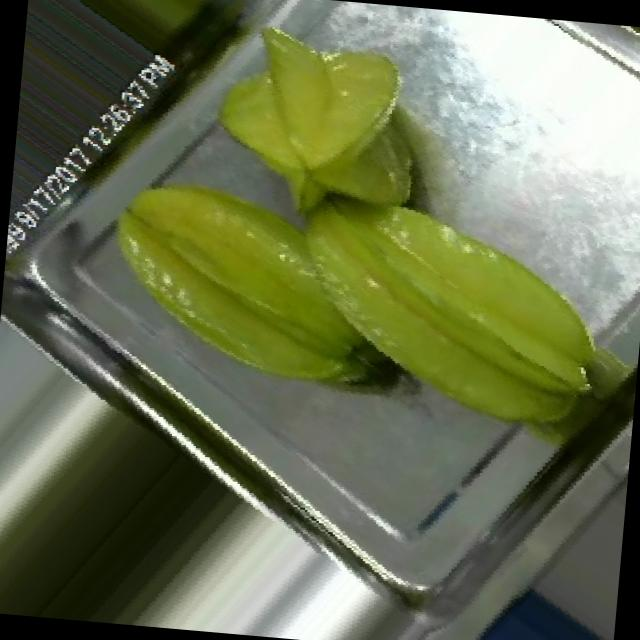fruit: (59, 113, 490, 483), (172, 0, 471, 261)
